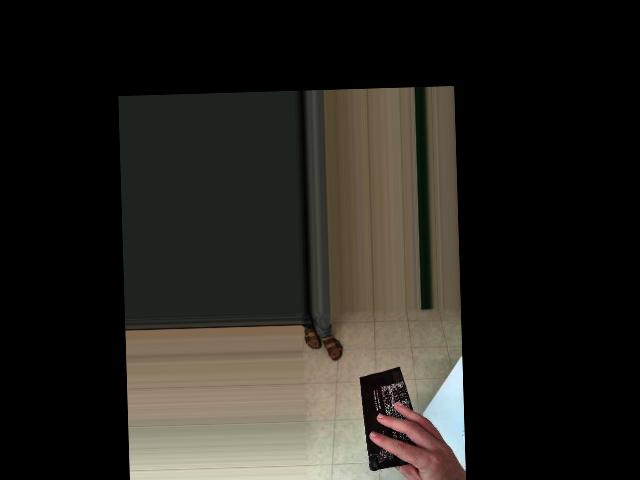chocolate: (356, 364, 419, 476)
